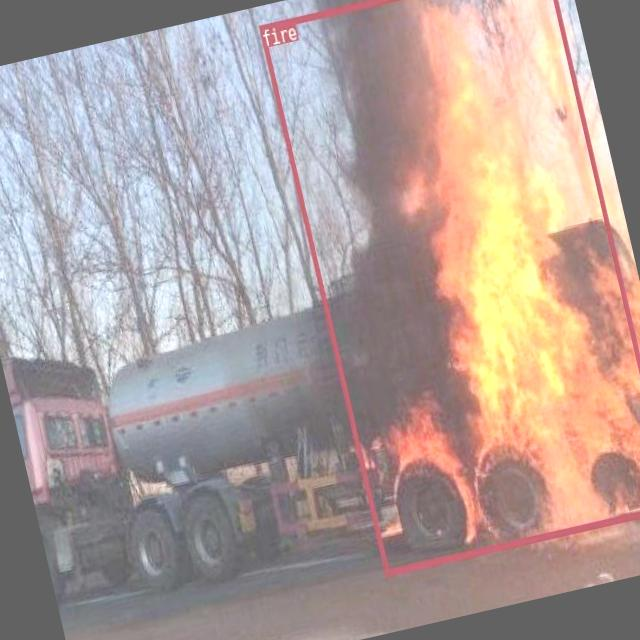fire: (258, 0, 640, 575)
